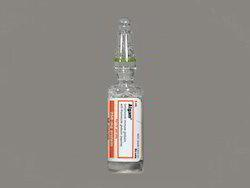Syringe: (103, 13, 148, 177)
